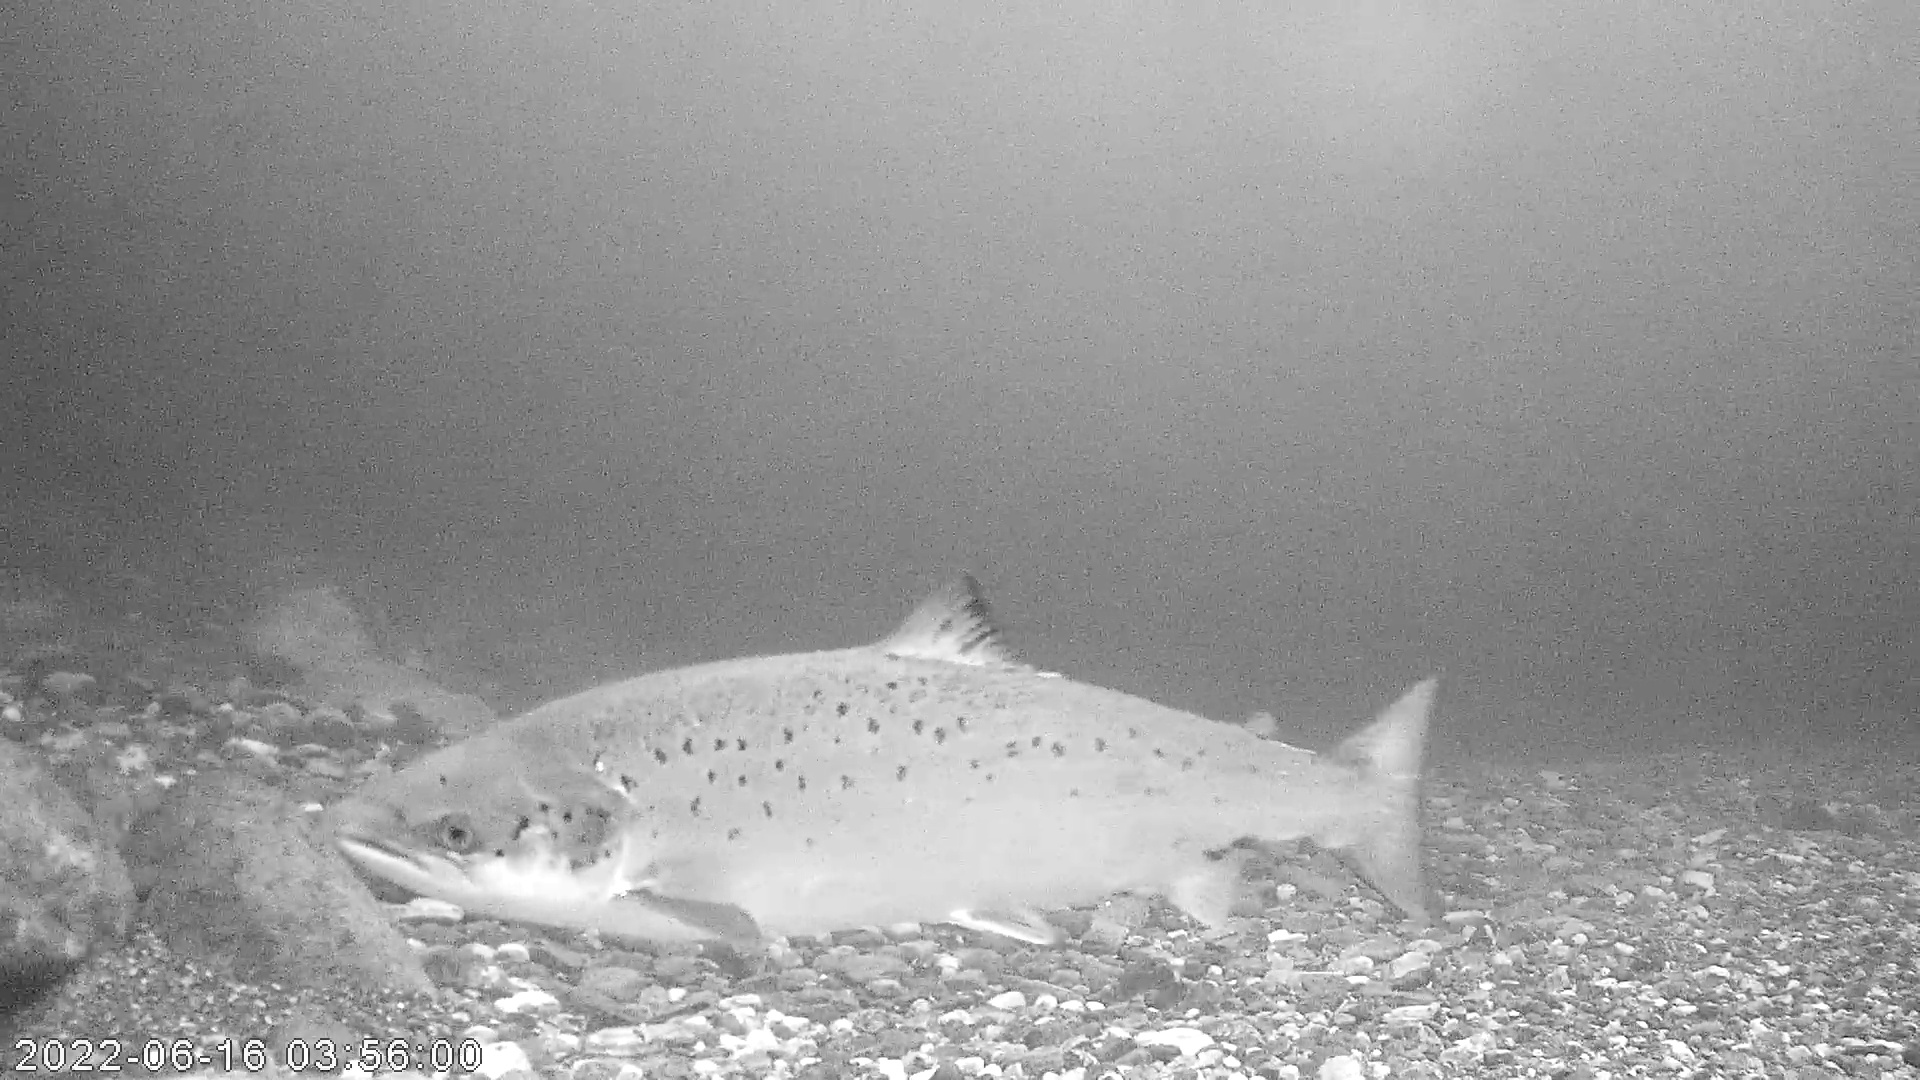salmon: (328, 568, 1443, 948)
